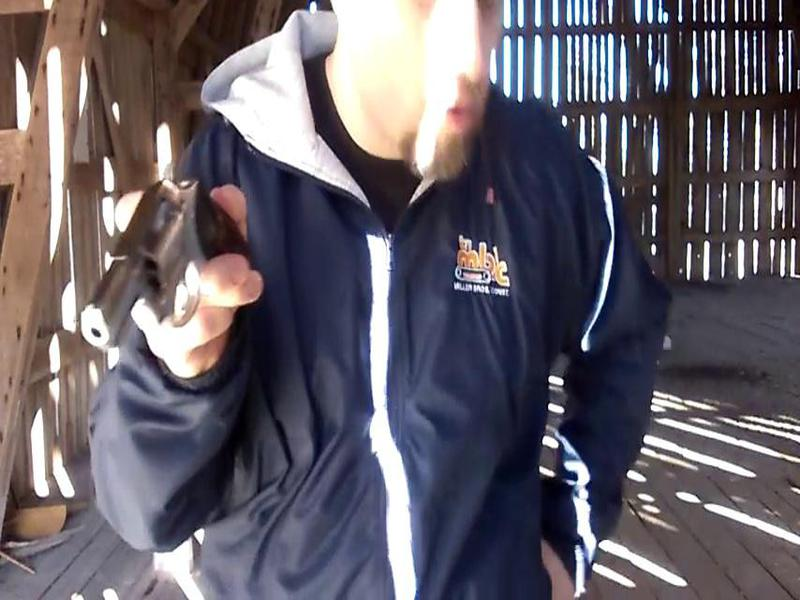Revolver: (76, 169, 224, 358)
